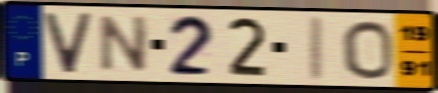2: (165, 12, 218, 79), (227, 16, 267, 79)
I: (306, 14, 327, 83)
N: (97, 13, 152, 74)
O: (339, 18, 396, 81)
V: (41, 11, 95, 76)
